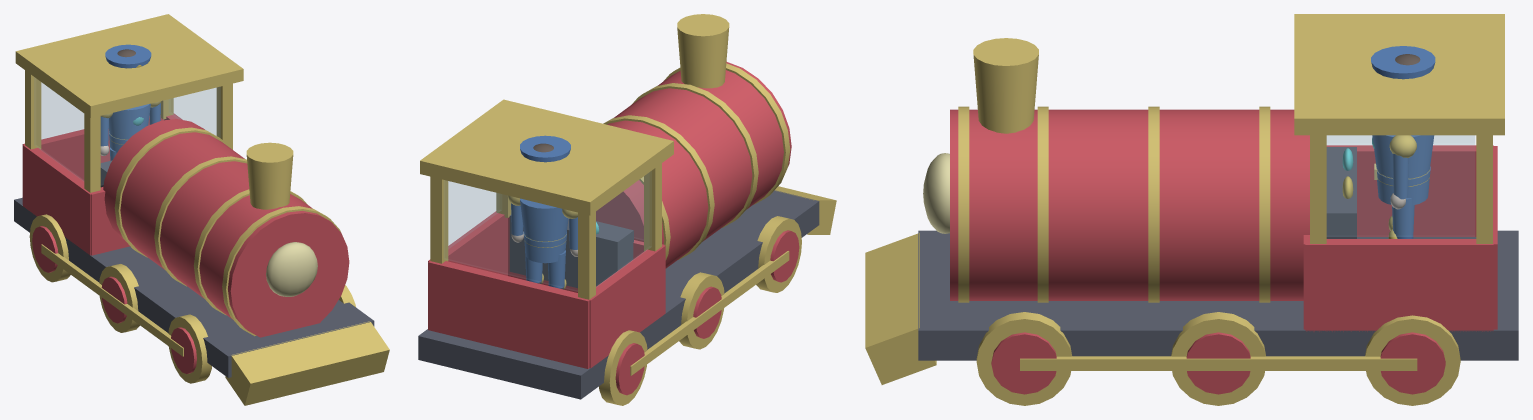
Rendered from locomotive_ultra_hd.glb.
3 renders of one model, left to right at view 1: azimuth 30°, elevation 25°; view 2: azimuth 150°, elevation 25°; view 3: azimuth 270°, elevation 25°, orthographic. The views are drawn at different scales.
Visible parts, largest first — view 1: locomotive_ultra_hd; view 2: locomotive_ultra_hd; view 3: locomotive_ultra_hd.
Part boxes in pixels (x1=…): locomotive_ultra_hd: x1=14, y1=14, x2=389, y2=405; locomotive_ultra_hd: x1=418, y1=14, x2=836, y2=405; locomotive_ultra_hd: x1=865, y1=14, x2=1518, y2=405.
Bounding box in the file's own units: 1.44 × 1.79 × 3.54.
